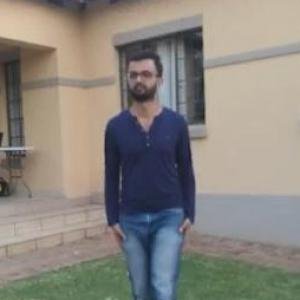follow: (99, 40, 200, 299)
